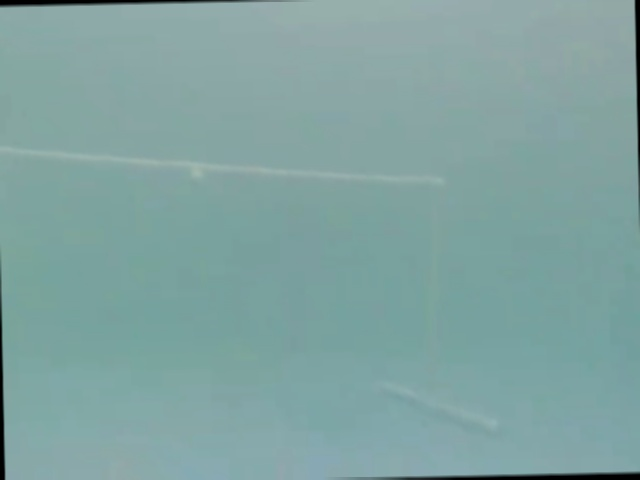gate: (0, 139, 511, 442)
